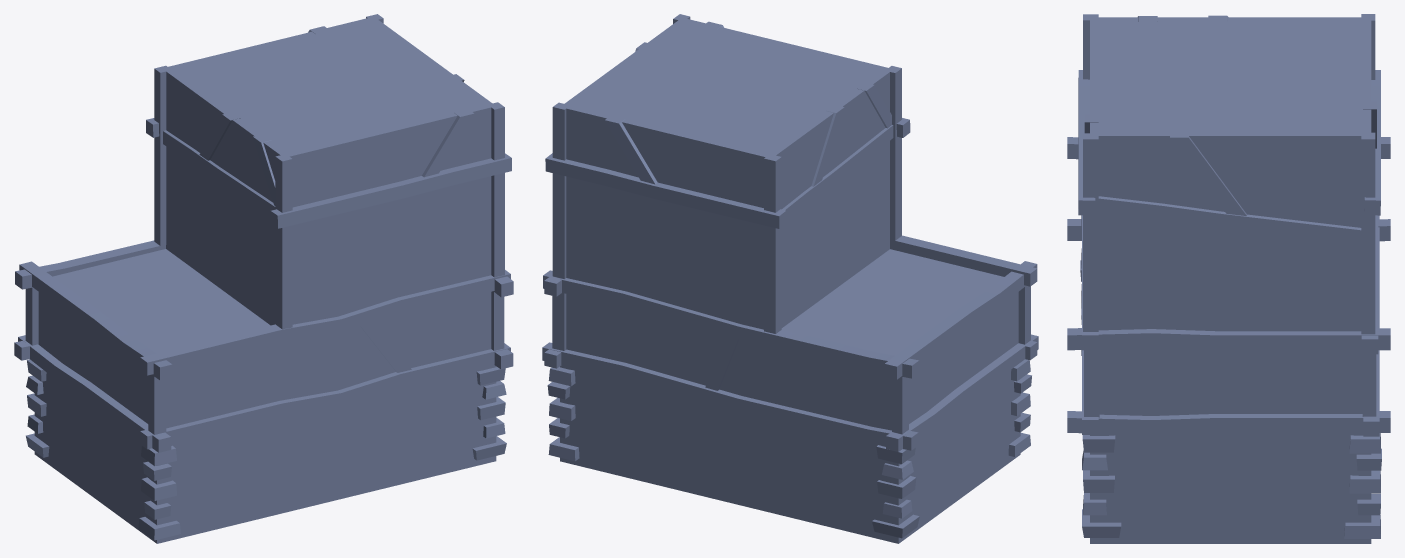
Rendered from House4v2.fbx.
The picture shows the model from 3 angles, left to right: view 1: azimuth 30°, elevation 25°; view 2: azimuth 150°, elevation 25°; view 3: azimuth 270°, elevation 25°; orthographic projection. The views are drawn at different scales.
Parts seen in each view (by area): view 1: House4v2; view 2: House4v2; view 3: House4v2.
Boxes of the visible parts, <box> form: House4v2: <box>14,14,513,543</box>; House4v2: <box>542,14,1038,543</box>; House4v2: <box>1067,14,1390,543</box>.
Size of the model in its own units: 872 by 801 by 575.
